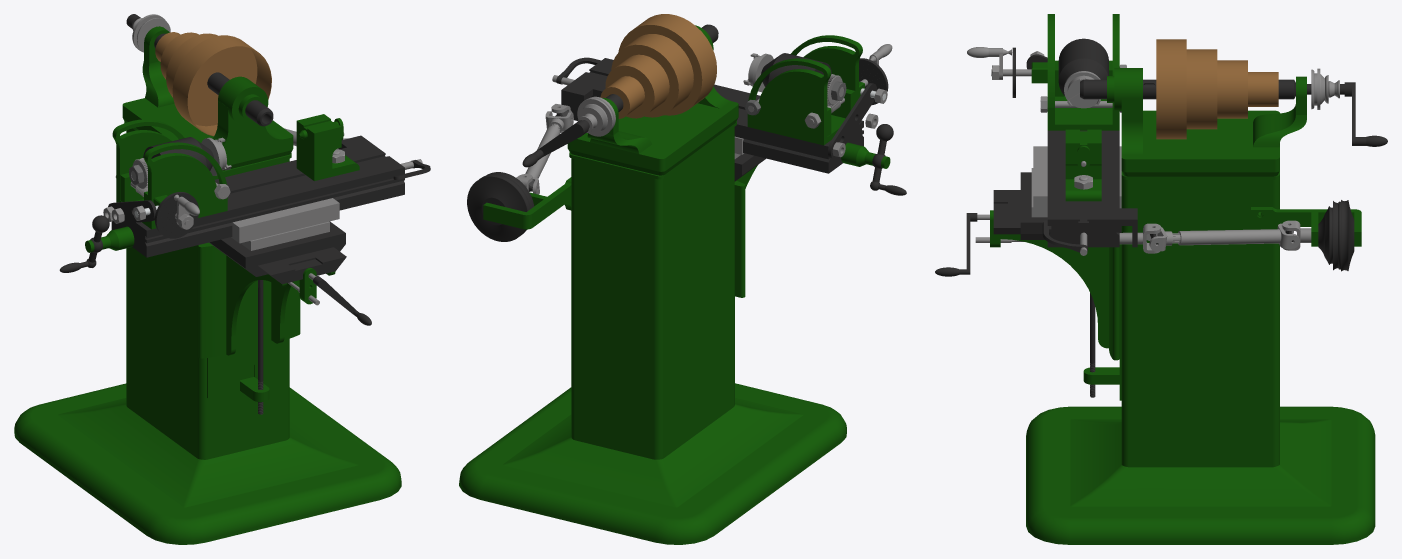
Rendered from Fresadora GLTF.gltf.
3 views of the same model, side by side, from view 1: azimuth 30°, elevation 25°; view 2: azimuth 150°, elevation 25°; view 3: azimuth 270°, elevation 25° (orthographic). The views are drawn at different scales.
Parts seen in each view (by area): view 1: Taladro_de_margen_para_M201, Cortar-Extruir13, Cortar-Extruir3, Obj_Simetría1, Cortar-Extruir4, Redondeo12, Saliente-Extruir1, Obj_Cortar-Extruir1_1, Obj_Cortar-Extruir3, Obj_Saliente-Extruir8, Cortar-Extruir5, Saliente-Extruir3 (+13 smaller); view 2: Taladro_de_margen_para_M201, Cortar-Extruir3, Obj_Simetría1, Cortar-Extruir4, Cortar-Extruir13, Cortar-Extruir21, Refrentado_para_tornillo_con_cabeza_plana_de_M101, Redondeo12, Obj_Cortar-Extruir1, Obj_Cortar-Extruir1_7, Saliente-Extruir8, Obj_Cortar-Extruir1_5 (+3 smaller); view 3: Taladro_de_margen_para_M201, Cortar-Extruir4, Cortar-Extruir3, Cortar-Extruir13, Obj_Simetría1, MatrizL1, Cortar-Extruir21, Obj_MatrizC1, Refrentado_para_tornillo_con_cabeza_plana_de_M101, Obj_Saliente-Extruir8, Obj_Cortar-Extruir1_6, Chaflán2 (+11 smaller).
Part boxes in pixels (x1,y1,x2,y2): Taladro_de_margen_para_M201: (14,121,401,544); Cortar-Extruir13: (111,135,404,257); Cortar-Extruir3: (155,32,271,136); Obj_Simetría1: (112,119,227,229); Cortar-Extruir4: (122,26,293,170); Redondeo12: (198,242,300,358); Saliente-Extruir1: (207,318,286,398); Obj_Cortar-Extruir1_1: (209,221,345,276); Obj_Cortar-Extruir3: (231,198,339,243); Obj_Saliente-Extruir8: (296,114,343,173); Cortar-Extruir5: (258,247,346,284); Saliente-Extruir3: (226,255,286,355); Taladro_de_margen_para_M201: (459,121,846,544); Cortar-Extruir3: (600,14,716,118); Obj_Simetría1: (747,35,862,145); Cortar-Extruir4: (567,86,738,175); Cortar-Extruir13: (561,58,863,173); Cortar-Extruir21: (467,172,534,241); Refrentado_para_tornillo_con_cabeza_plana_de_M101: (483,177,571,229); Redondeo12: (734,180,745,297); Obj_Cortar-Extruir1: (577,96,615,136); Obj_Cortar-Extruir1_7: (828,83,877,159); Saliente-Extruir8: (522,120,588,167); Obj_Cortar-Extruir1_5: (870,124,906,195); Taladro_de_margen_para_M201: (1026,171,1375,544); Cortar-Extruir4: (1121,76,1306,176); Cortar-Extruir3: (1156,39,1278,139); Cortar-Extruir13: (1047,130,1137,247); Obj_Simetría1: (1047,14,1119,130); MatrizL1: (993,234,1108,348); Cortar-Extruir21: (1318,200,1354,271); Obj_MatrizC1: (1178,223,1299,248); Refrentado_para_tornillo_con_cabeza_plana_de_M101: (1251,207,1361,246); Obj_Saliente-Extruir8: (1065,129,1101,179); Obj_Cortar-Extruir1_6: (1058,38,1108,95); Chaflán2: (1080,79,1344,99).
Size of the model in its own units: 1.17 by 1.34 by 1.26.
